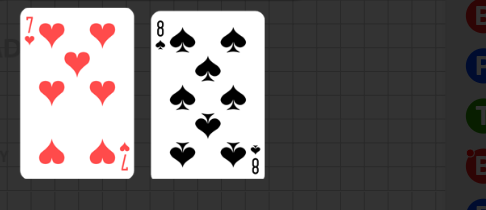10S: (248, 142, 261, 175)
7H: (22, 14, 36, 46)
